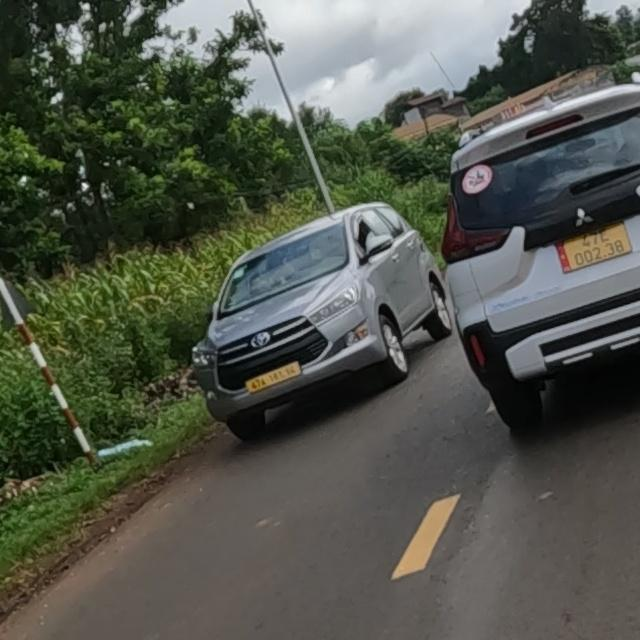license-plate: (557, 223, 632, 274), (245, 362, 302, 395)
